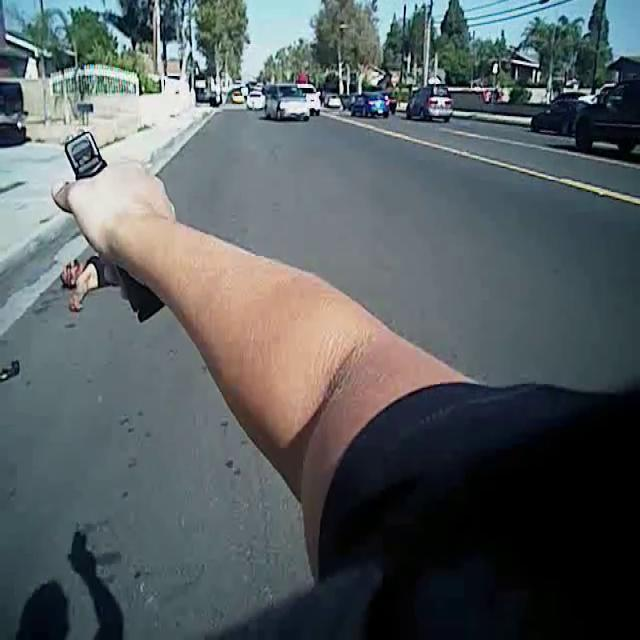gun: (39, 106, 183, 329)
